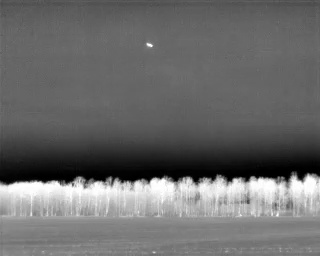DRONE: (143, 39, 157, 52)
